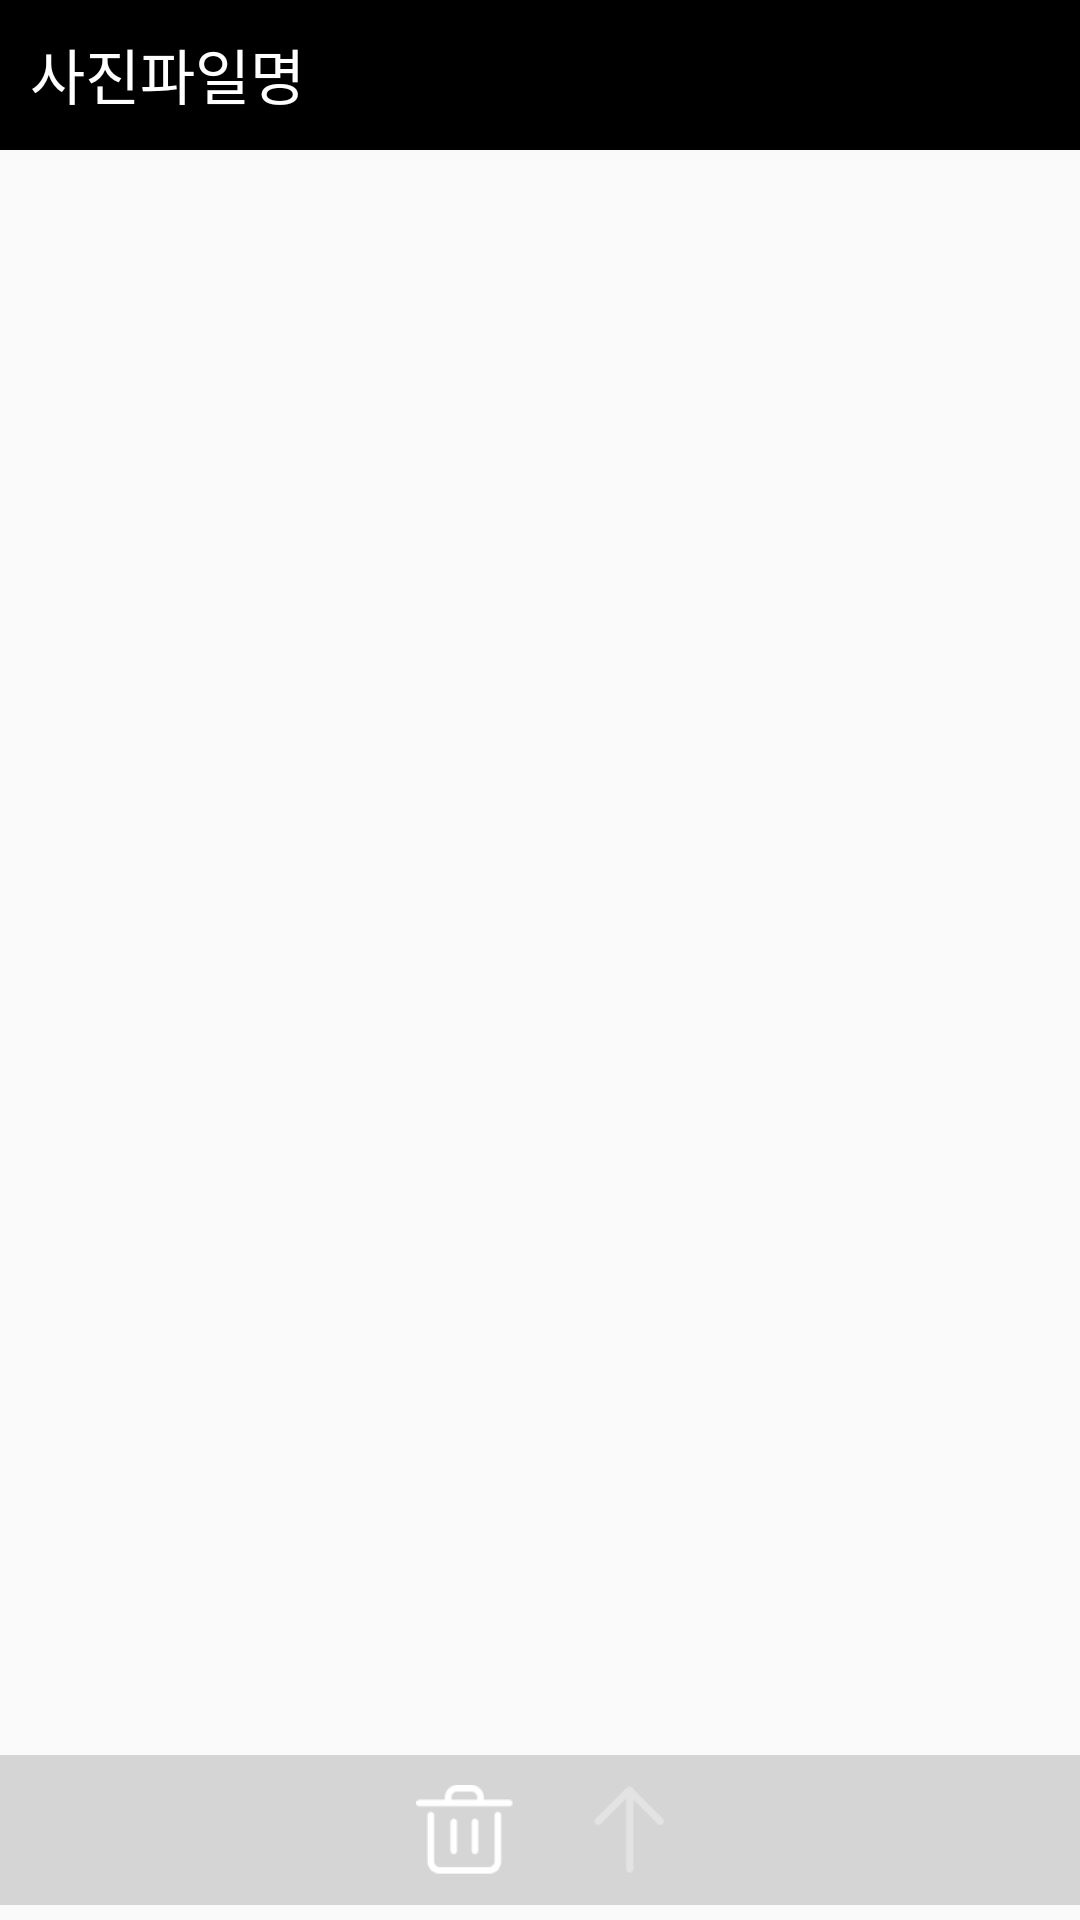

Icons on this 1080w x 1920h Android screen, each with the point to tap as (x,y):
del: (464,1829)
